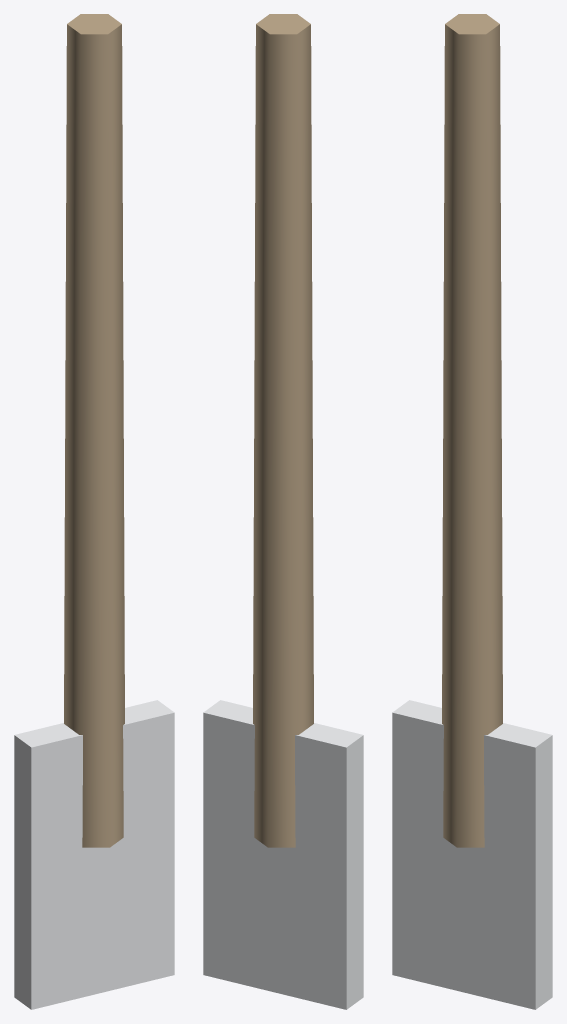
The model's file is oar.glb.
3 renders of one model, left to right at view 1: azimuth 30°, elevation 25°; view 2: azimuth 150°, elevation 25°; view 3: azimuth 330°, elevation 25°, orthographic.
Size of the model in its own units: 0.24 by 1.54 by 0.09.
